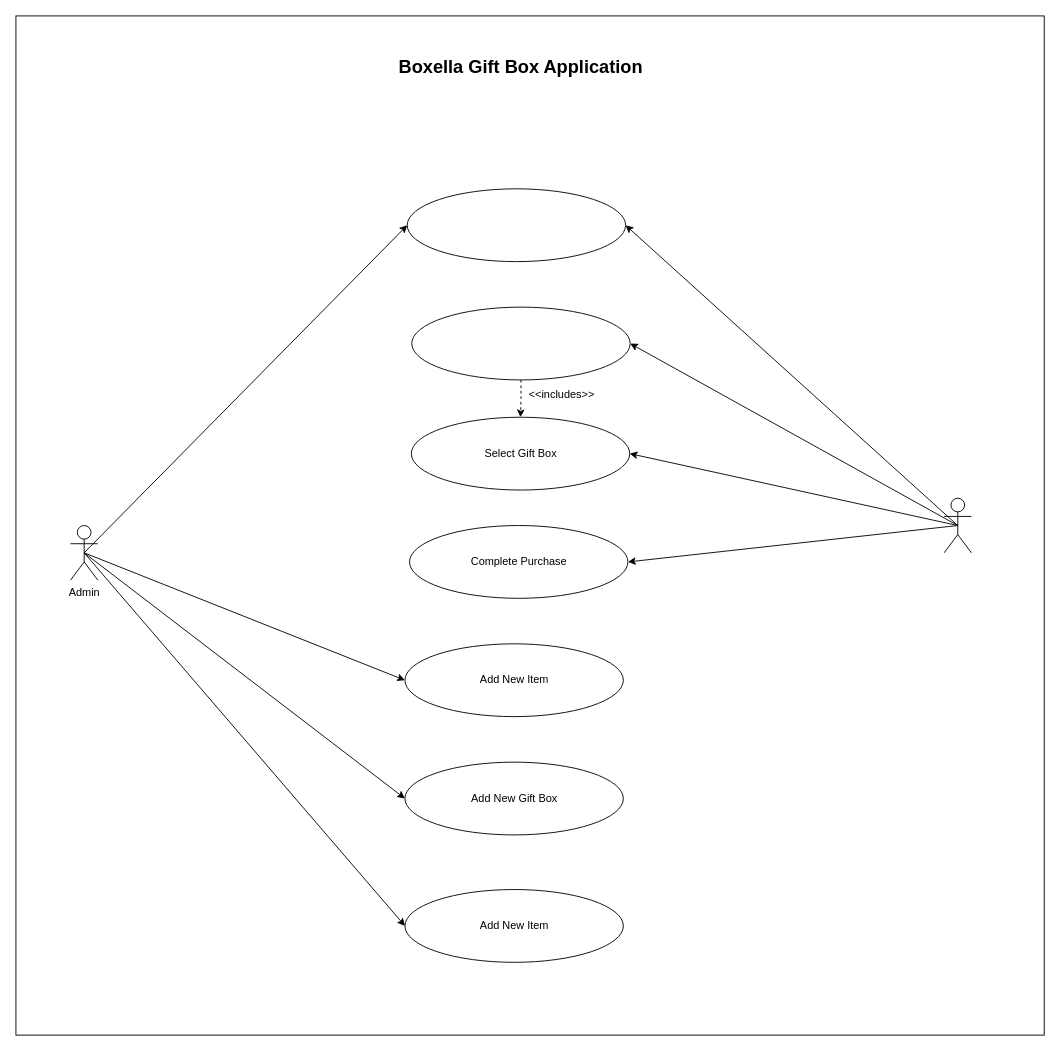
Some shapes in this 1060 by 1051 pixel diagram are drawn without their labels. The box of each missing label's shape, as (x1, y1, x2, y2) in pixels:
Customer: (943, 497, 971, 553)
Purchase Gift Box: (411, 306, 630, 380)
Sign In: (406, 188, 626, 262)
